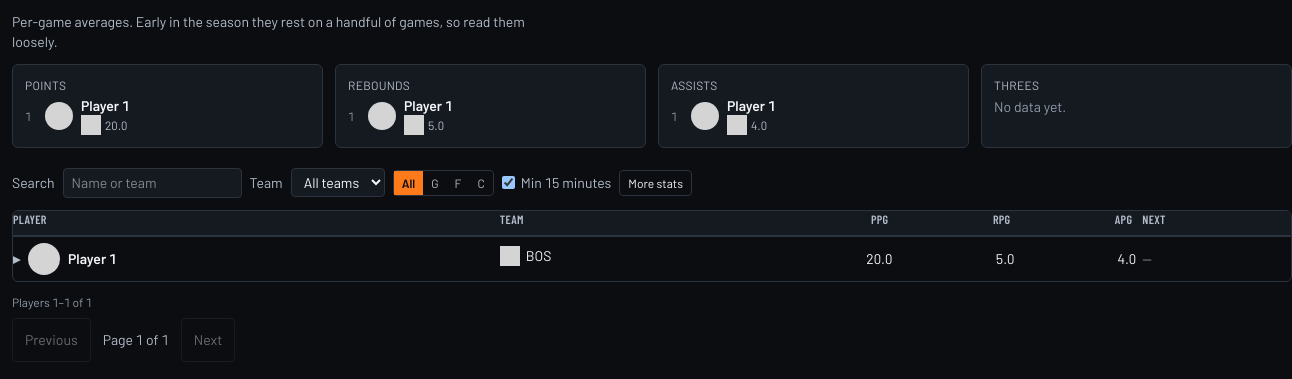
Test: PlayerHubPanel › keeps six columns on a narrow screen and puts the rest behind More stats
Check: the text "Player 1" is shown, box left=28, top=242, right=116, bottom=274
Check: the column heading "Player" is shown, box left=13, top=210, right=500, bottom=235
Click the button "More stats": (656, 182) left=619, top=170, right=692, bottom=196
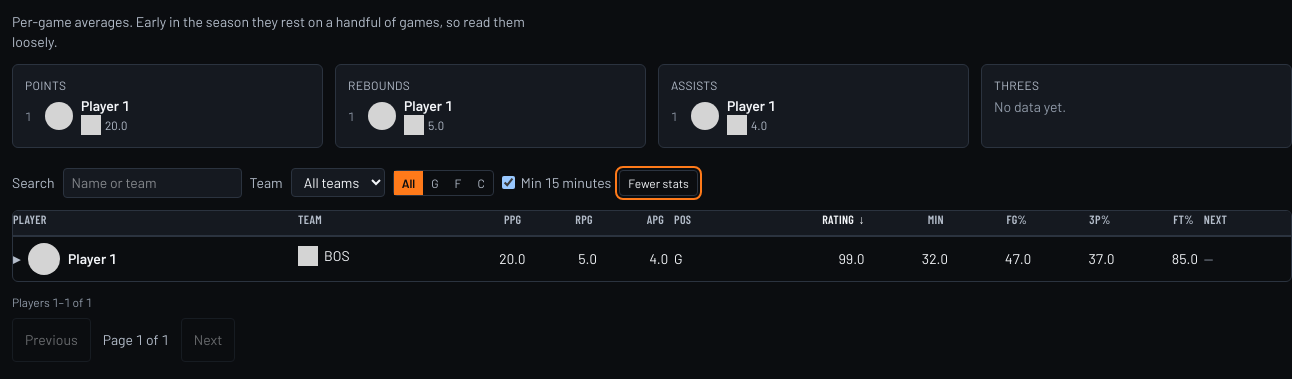
Check: the column heading "FG%" is shown, box left=954, top=210, right=1037, bottom=235
Check: the button "Fewer stats" is expanded, box left=619, top=170, right=698, bottom=196
